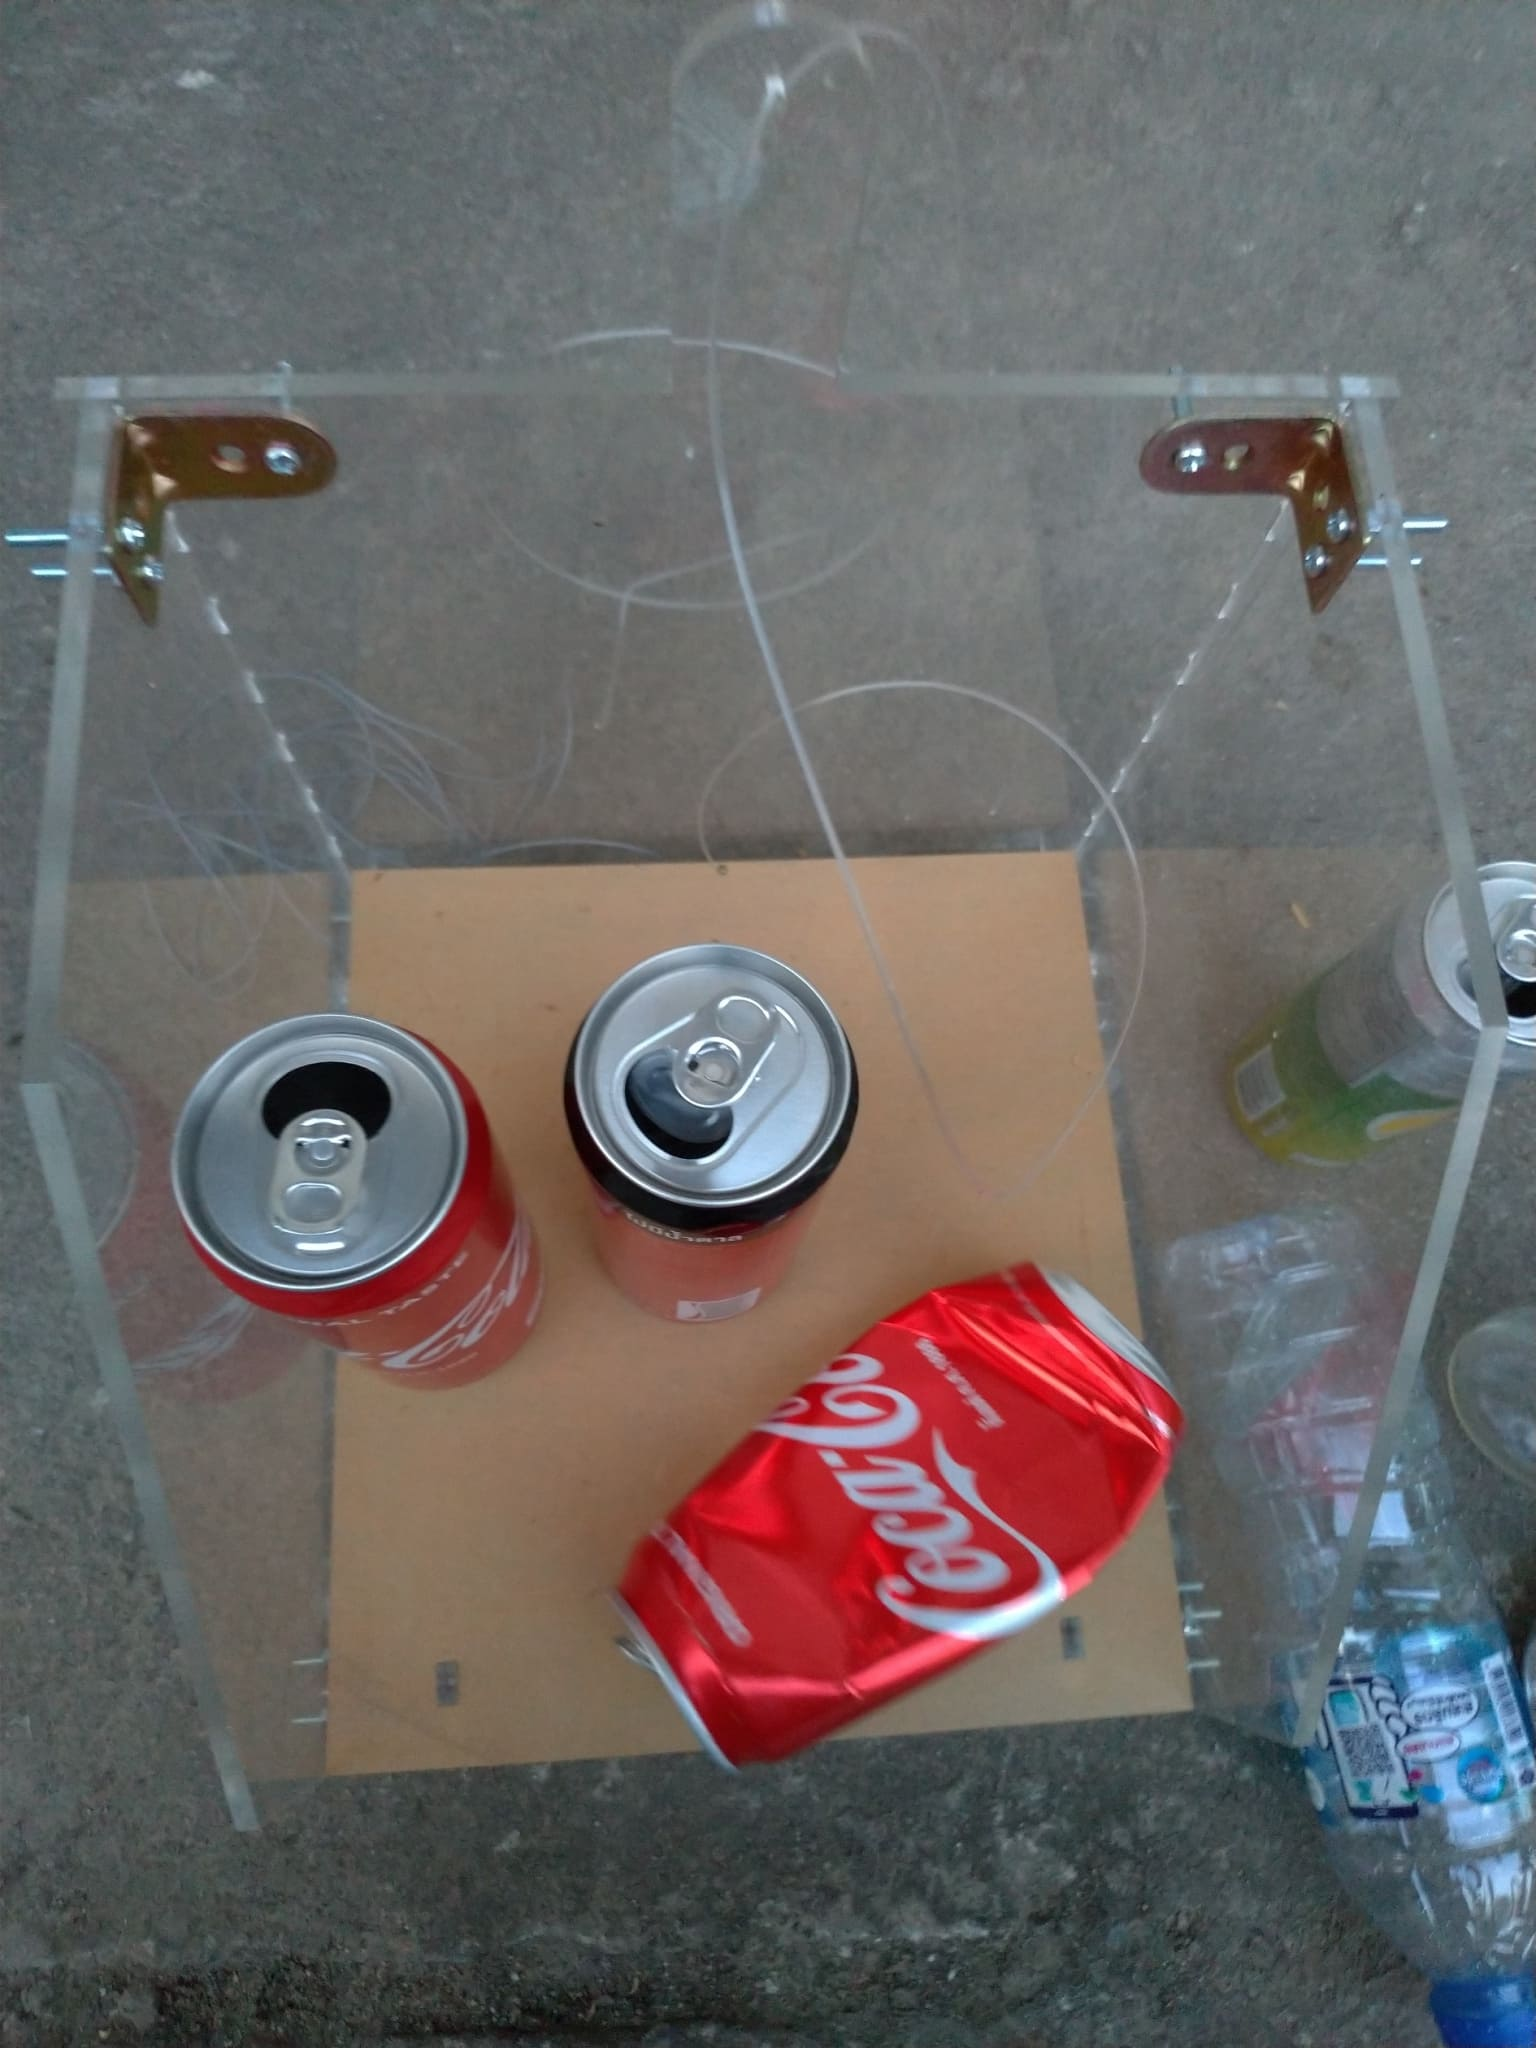AlCan: (600, 1251, 1183, 1777), (169, 1013, 553, 1390), (566, 945, 858, 1326), (1217, 861, 1536, 1176)
PlasticBottle: (1162, 1209, 1536, 2033)
